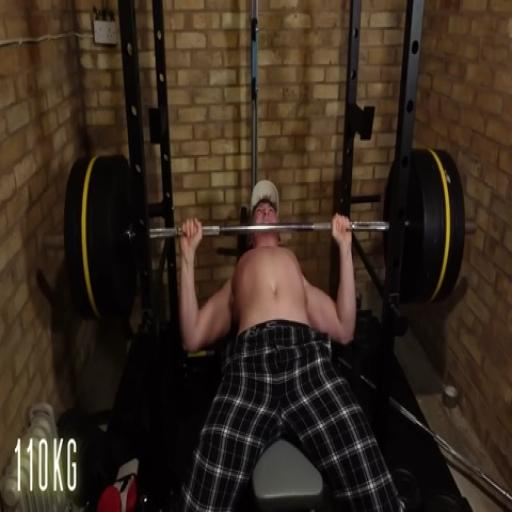exercise: (174, 178, 411, 510)
